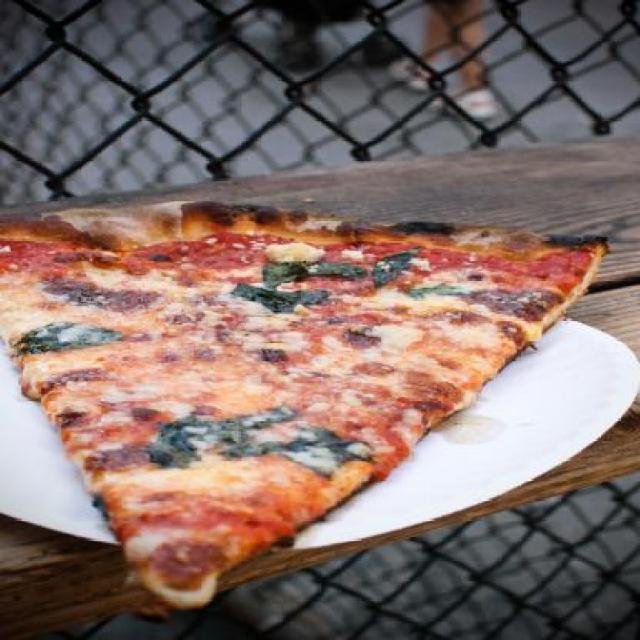Pizza: (19, 193, 607, 578)
